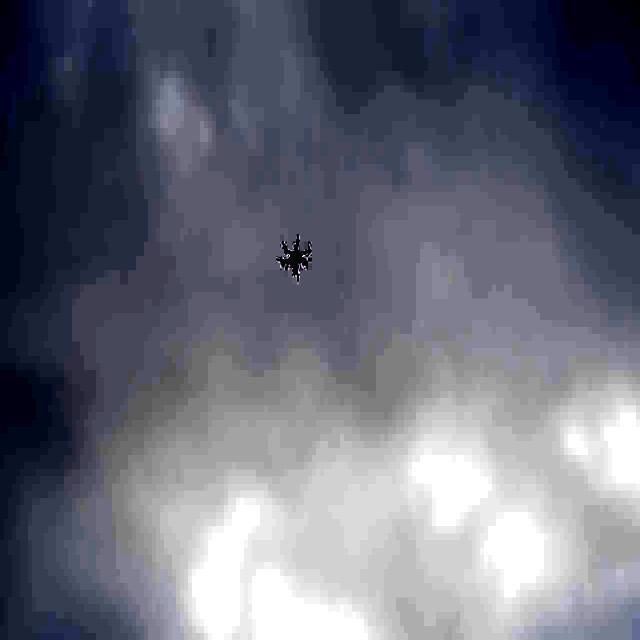drone: (272, 220, 316, 288)
